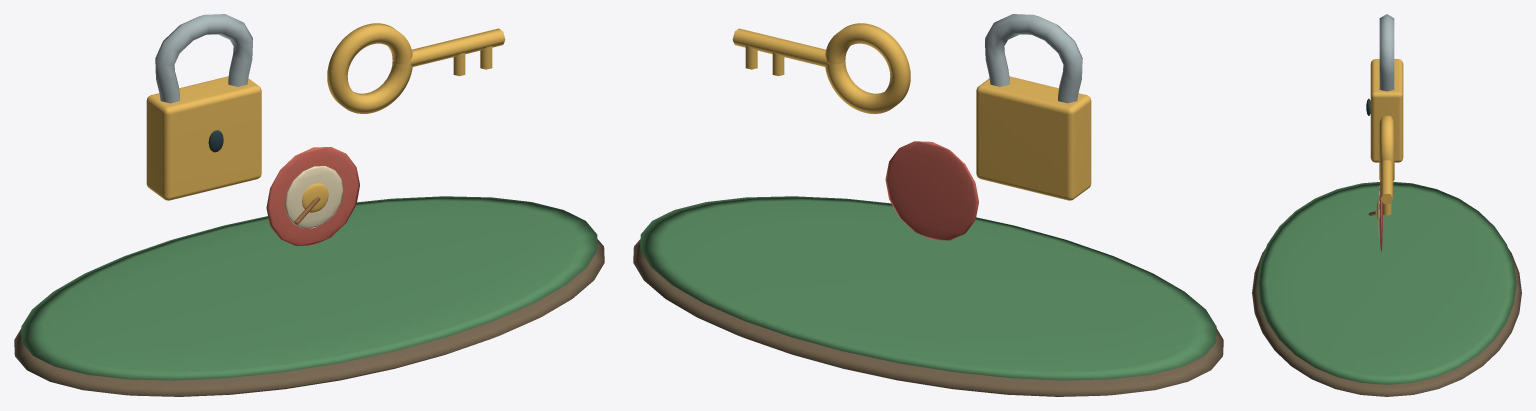
Rendered from complete-second-closed-key-point.glb.
3 renders of one model, left to right at view 1: azimuth 30°, elevation 25°; view 2: azimuth 150°, elevation 25°; view 3: azimuth 270°, elevation 25°, orthographic. The views are drawn at different scales.
Visible parts, largest first — view 1: complete-second-closed-key-point_surface_01, complete-second-closed-key-point_surface_02, complete-second-closed-key-point_surface_00, complete-second-closed-key-point_surface_05, complete-second-closed-key-point_surface_03, complete-second-closed-key-point_surface_06; view 2: complete-second-closed-key-point_surface_01, complete-second-closed-key-point_surface_02, complete-second-closed-key-point_surface_00, complete-second-closed-key-point_surface_05, complete-second-closed-key-point_surface_03; view 3: complete-second-closed-key-point_surface_01, complete-second-closed-key-point_surface_00, complete-second-closed-key-point_surface_02, complete-second-closed-key-point_surface_03.
Boxes of the visible parts, x1,y1,x2,y2 form: complete-second-closed-key-point_surface_01: [21, 196, 597, 380]; complete-second-closed-key-point_surface_02: [146, 23, 505, 212]; complete-second-closed-key-point_surface_00: [14, 239, 604, 396]; complete-second-closed-key-point_surface_05: [266, 147, 359, 246]; complete-second-closed-key-point_surface_03: [155, 14, 252, 103]; complete-second-closed-key-point_surface_06: [285, 166, 343, 228]; complete-second-closed-key-point_surface_01: [640, 196, 1216, 380]; complete-second-closed-key-point_surface_02: [732, 23, 1091, 200]; complete-second-closed-key-point_surface_00: [633, 239, 1223, 396]; complete-second-closed-key-point_surface_05: [885, 141, 978, 240]; complete-second-closed-key-point_surface_03: [985, 14, 1082, 103]; complete-second-closed-key-point_surface_01: [1257, 182, 1516, 384]; complete-second-closed-key-point_surface_00: [1252, 249, 1521, 396]; complete-second-closed-key-point_surface_02: [1370, 59, 1403, 222]; complete-second-closed-key-point_surface_03: [1379, 14, 1394, 91].
Bounding box in the file's own units: 4.56 × 2.54 × 2.5.
